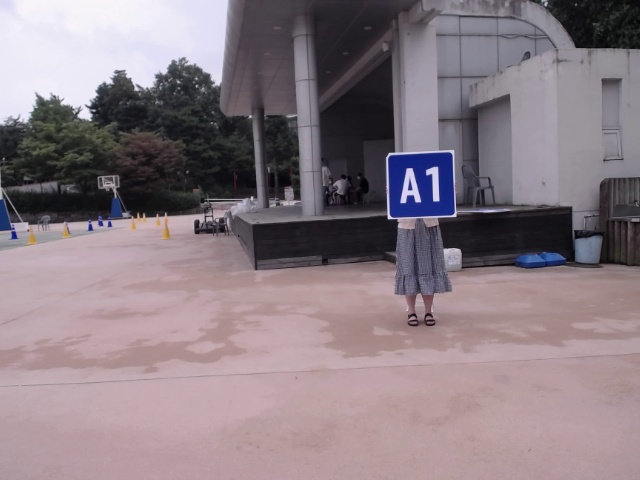delivery_a1: (386, 152, 456, 218)
